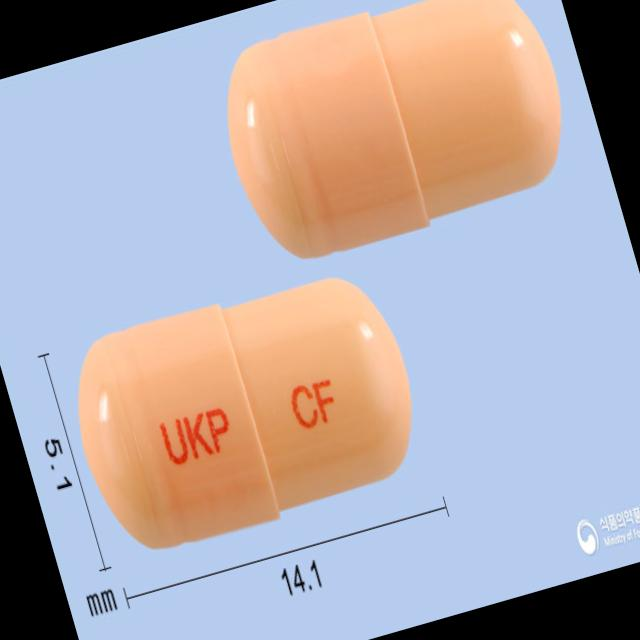Unifixime Cap: (51, 252, 436, 566)
